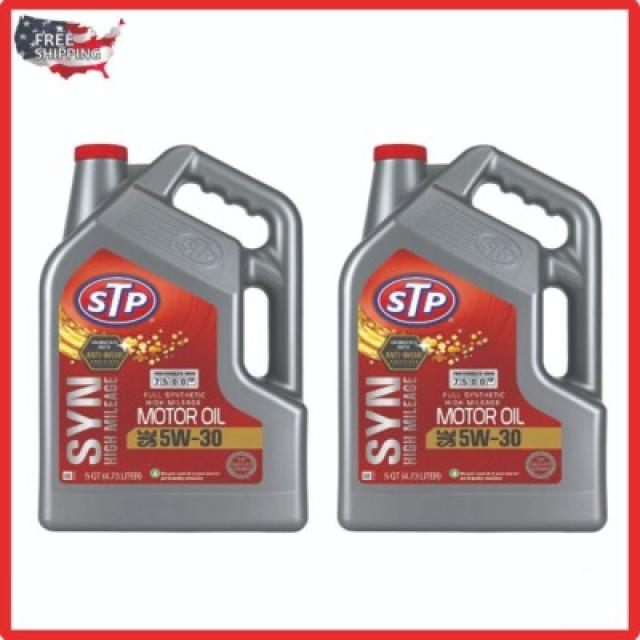motor_oil: (335, 123, 615, 536), (37, 133, 315, 538)
